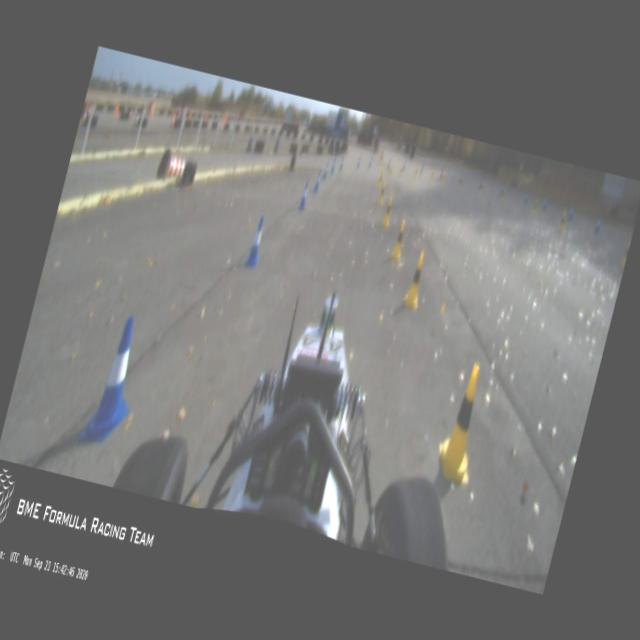blue_cone: (77, 313, 150, 453), (243, 214, 269, 268), (298, 180, 311, 208), (312, 170, 322, 192), (321, 160, 330, 180), (329, 157, 337, 174), (594, 217, 602, 234), (567, 206, 574, 220), (522, 190, 529, 204), (338, 156, 344, 172), (542, 198, 548, 210), (356, 154, 361, 168), (368, 154, 373, 168), (386, 157, 391, 169), (419, 162, 425, 172), (402, 160, 406, 170)
yellow_cone: (430, 361, 496, 488), (400, 251, 430, 310), (388, 218, 409, 264), (380, 195, 395, 228), (376, 180, 388, 205), (620, 238, 630, 266), (556, 210, 568, 232), (376, 173, 384, 189), (530, 199, 538, 215), (386, 163, 394, 178), (398, 163, 404, 176), (413, 164, 419, 176), (429, 168, 435, 180), (441, 168, 446, 182), (500, 190, 505, 202), (480, 180, 485, 192), (459, 176, 463, 186)
